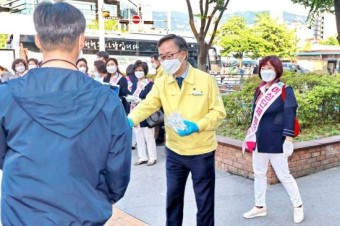mask: (159, 59, 181, 75), (260, 69, 276, 82), (106, 66, 117, 73), (15, 65, 26, 72), (134, 71, 144, 78), (78, 67, 87, 73), (151, 63, 157, 69)
